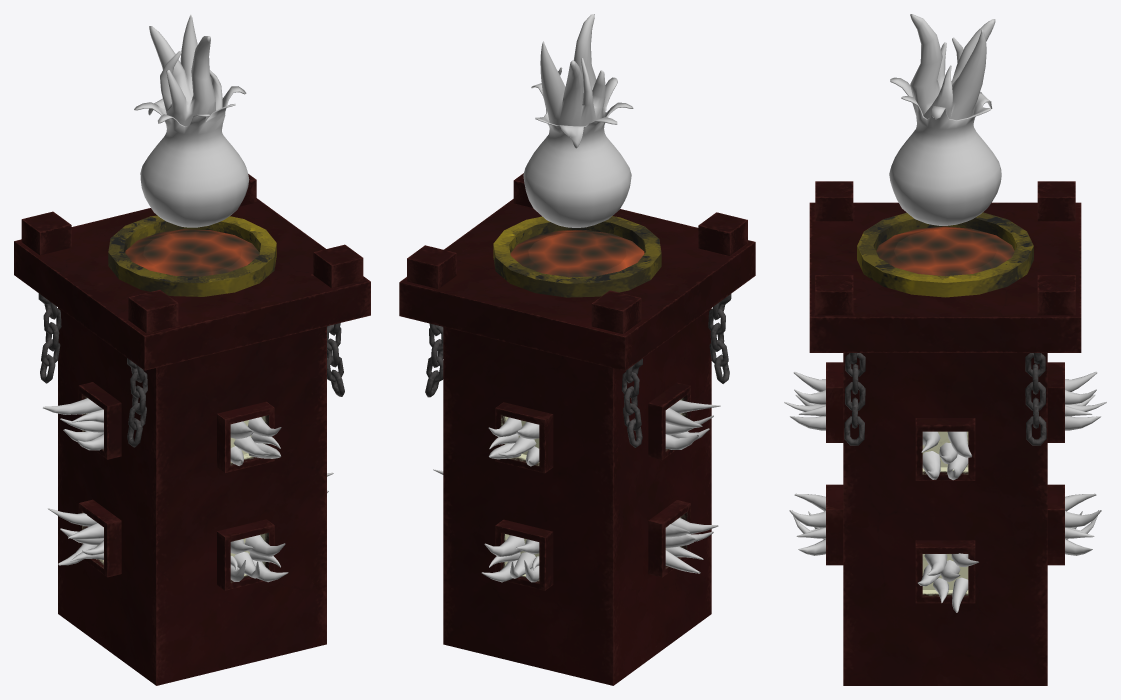
File: fire_tower_lvl_un.fbx
3 renders of one model, left to right at view 1: azimuth 30°, elevation 25°; view 2: azimuth 150°, elevation 25°; view 3: azimuth 270°, elevation 25°, orthographic. The views are drawn at different scales.
Parts seen in each view (by area): view 1: Torus.015, flamiche_lvl1.003, Torus.013; view 2: Torus.015, flamiche_lvl1.003, Torus.013; view 3: Torus.015, flamiche_lvl1.003, Torus.013.
Boxes of the visible parts, x1,y1,x2,y2 form: Torus.015: [14, 174, 370, 685]; flamiche_lvl1.003: [134, 14, 249, 227]; Torus.013: [42, 398, 333, 582]; Torus.015: [399, 173, 755, 685]; flamiche_lvl1.003: [523, 14, 633, 227]; Torus.013: [428, 359, 720, 582]; Torus.015: [809, 181, 1081, 685]; flamiche_lvl1.003: [889, 14, 1001, 225]; Torus.013: [784, 371, 1106, 612].
Size of the model in its own units: 0.5501 by 0.5372 by 1.15.
